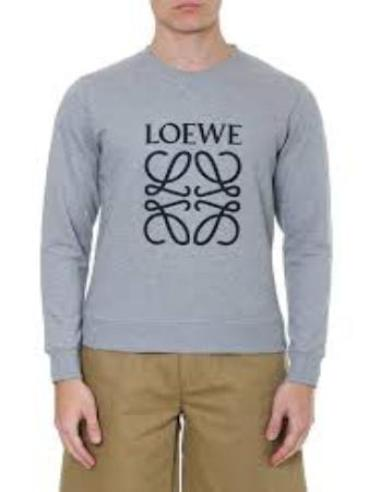LOEWE: (138, 101, 250, 257)
